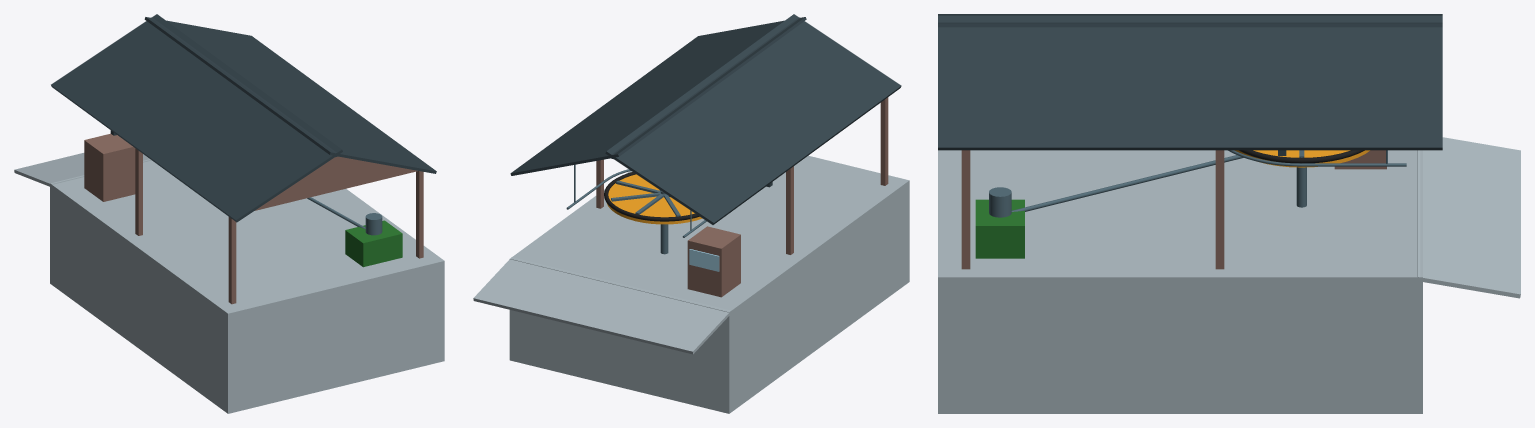
The model's file is base-station.glb.
The picture shows the model from 3 angles, left to right: view 1: azimuth 30°, elevation 25°; view 2: azimuth 150°, elevation 25°; view 3: azimuth 270°, elevation 25°; orthographic projection. The views are drawn at different scales.
Visible parts, largest first — view 1: Deck, Roof (×2), OperatorCabin, Gable, RoofPost (×3), Motor, Ramp, Ridge; view 2: Deck, Roof (×2), Ramp, OperatorCabin, Rim, RoofPost (×2), Liner, CabinWindow, Ridge; view 3: Deck, Roof (×2), Ramp, Motor, RoofPost (×2), DriveShaft, Rim, Liner, Gearbox, OperatorCabin.
Part boxes in pixels (left/top/right/bottom): Deck: left=50, top=159, right=444, bottom=413; Roof (×2): left=51, top=14, right=436, bottom=222; OperatorCabin: left=84, top=133, right=135, bottom=201; Gable: left=255, top=156, right=417, bottom=210; RoofPost (×3): left=135, top=148, right=423, bottom=304; Motor: left=345, top=220, right=402, bottom=267; Ramp: left=14, top=153, right=151, bottom=187; Ridge: left=151, top=17, right=338, bottom=157; Deck: left=509, top=155, right=909, bottom=413; Roof (×2): left=510, top=14, right=901, bottom=224; Ramp: left=473, top=257, right=730, bottom=354; OperatorCabin: left=687, top=226, right=740, bottom=297; Rim: left=607, top=174, right=702, bottom=224; RoofPost (×2): left=786, top=97, right=888, bottom=254; Liner: left=604, top=172, right=699, bottom=221; CabinWindow: left=689, top=249, right=719, bottom=271; Ridge: left=610, top=17, right=800, bottom=158; Deck: left=938, top=150, right=1422, bottom=413; Roof (×2): left=938, top=14, right=1442, bottom=150; Ramp: left=1417, top=137, right=1520, bottom=298; Motor: left=975, top=199, right=1024, bottom=258; RoofPost (×2): left=961, top=150, right=1224, bottom=269; DriveShaft: left=1011, top=155, right=1243, bottom=211; Rim: left=1235, top=150, right=1369, bottom=167; Liner: left=1239, top=150, right=1364, bottom=163; Gearbox: left=989, top=187, right=1011, bottom=217; OperatorCabin: left=1334, top=150, right=1386, bottom=169.
Bounding box in the file's own units: 10.4 × 10.85 × 17.79.
